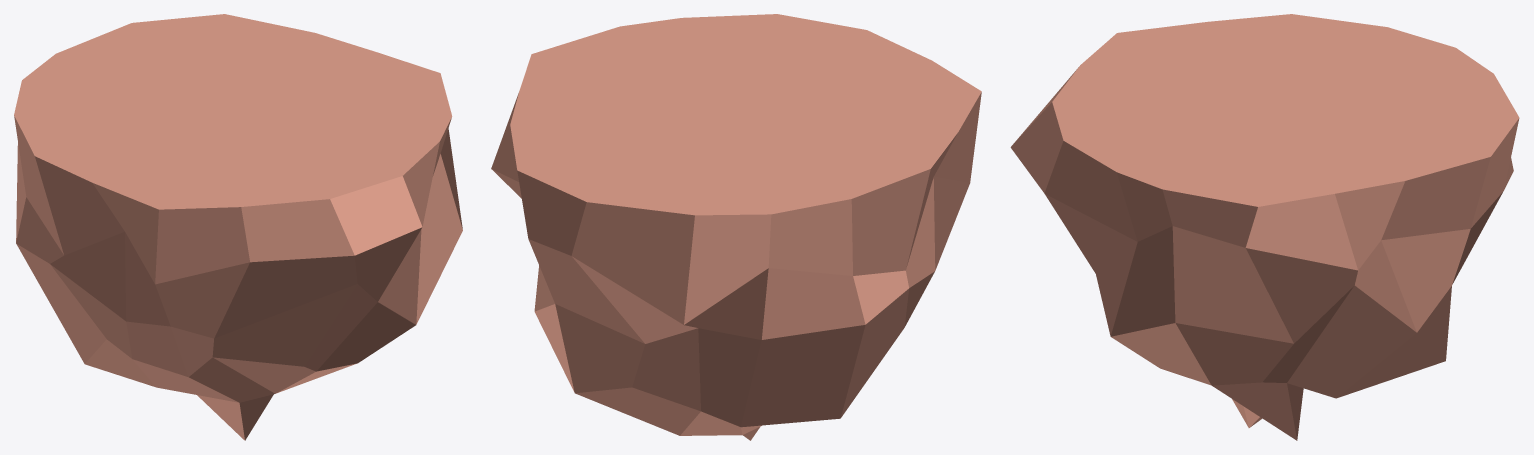
Rendered from platform_t.glb.
3 views of the same model, side by side, from view 1: azimuth 30°, elevation 25°; view 2: azimuth 150°, elevation 25°; view 3: azimuth 270°, elevation 25° (orthographic). The views are drawn at different scales.
Parts seen in each view (by area): view 1: Roundcube.001; view 2: Roundcube.001; view 3: Roundcube.001.
Boxes of the visible parts, x1=… form: Roundcube.001: x1=14, y1=14, x2=462, y2=440; Roundcube.001: x1=491, y1=14, x2=981, y2=440; Roundcube.001: x1=1010, y1=14, x2=1519, y2=440.
Size of what is drawn, in the model's own units: 2.95 by 2.28 by 3.29.
1 material, 1 textured.
